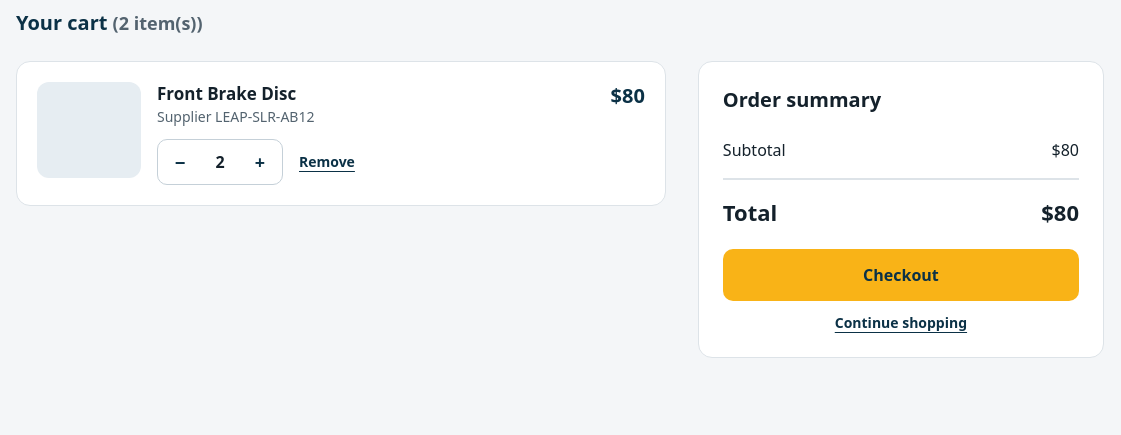
cart page › CRITICAL: removing a part says so and Undo puts the same quantity back
Click the button "Remove" at (327, 162), box x1=299 y1=140 x2=355 y2=184
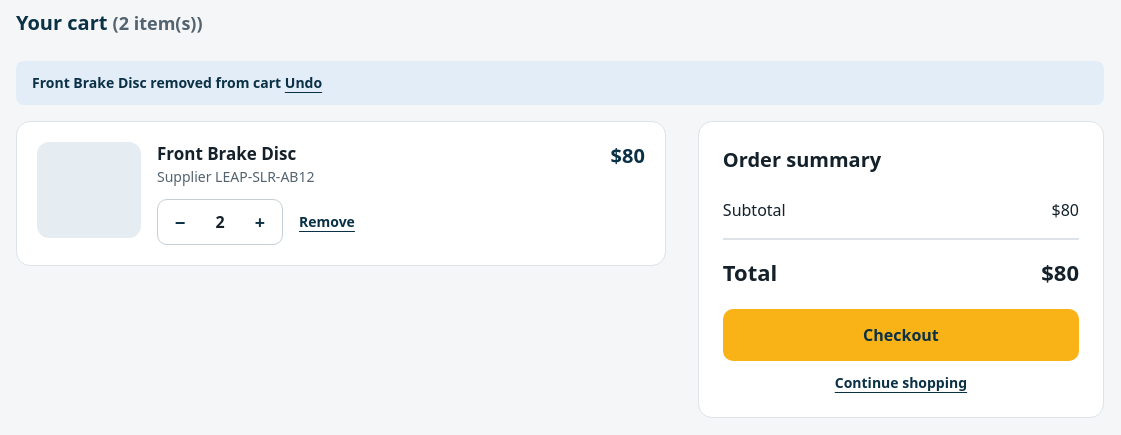
Expected: the text "Front Brake Disc removed from cart Undo" is shown, x1=16 y1=61 x2=1104 y2=105
Click the button "Undo" at (303, 83), box x1=285 y1=73 x2=322 y2=93
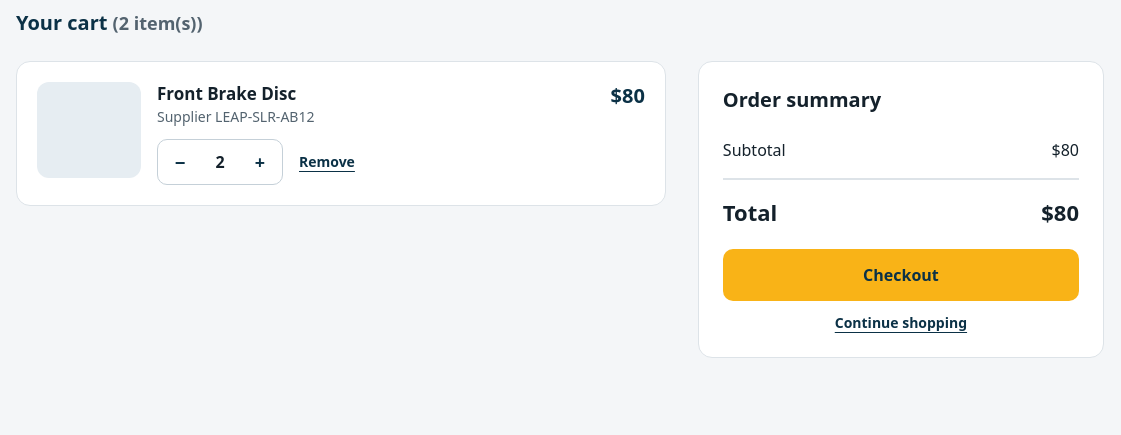
Expected: the button "Undo" is gone
